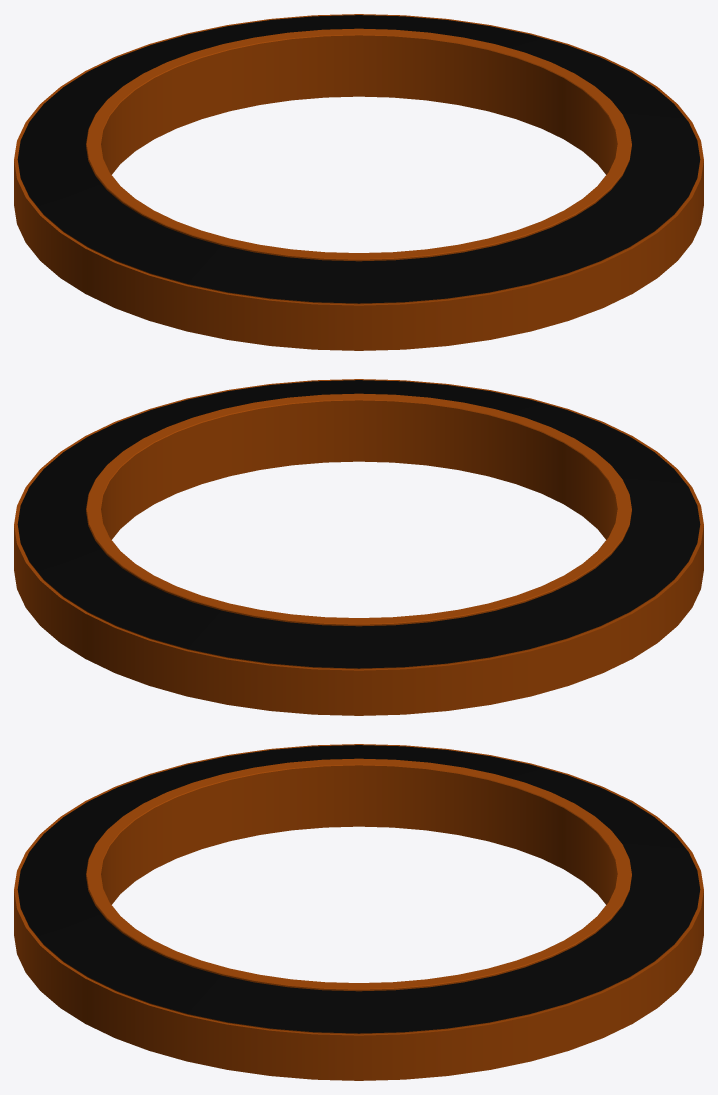
Rendered from OuterRing.FBX.
3 renders of one model, top to bottom at view 1: azimuth 30°, elevation 25°; view 2: azimuth 150°, elevation 25°; view 3: azimuth 270°, elevation 25°, orthographic.
Visible parts, largest first — view 1: OuterRing; view 2: OuterRing; view 3: OuterRing.
Boxes of the visible parts, x1,y1,x2,y2 form: OuterRing: [14, 14, 703, 350]; OuterRing: [14, 379, 703, 715]; OuterRing: [14, 744, 703, 1080].
Bounding box in the file's own units: 202 × 20.01 × 202.
